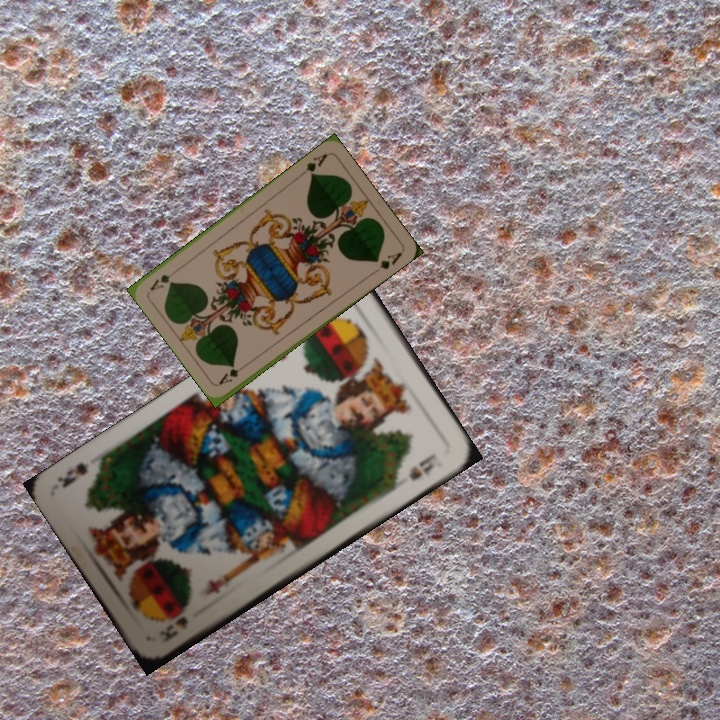GA: (295, 149, 330, 180), (215, 359, 251, 387)
SK: (159, 612, 191, 645)
